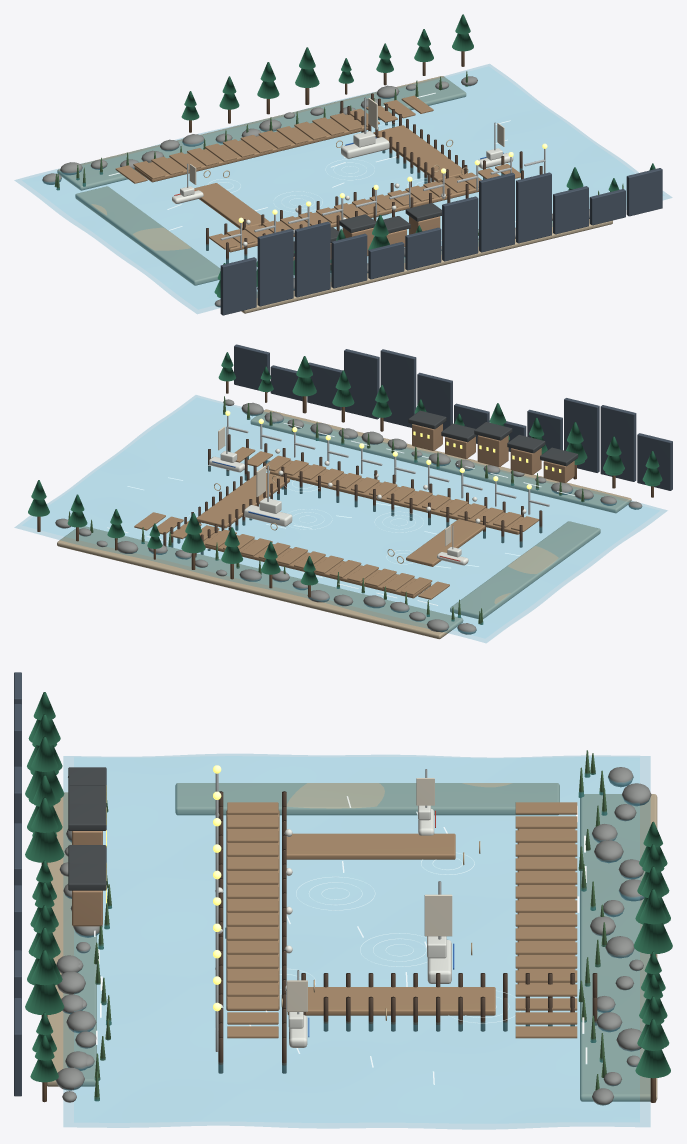
Rendered from water-cinematic-marina-blender.glb.
3 views of the same model, one above another, from view 1: azimuth 30°, elevation 25°; view 2: azimuth 150°, elevation 25°; view 3: azimuth 270°, elevation 25° (orthographic). The views are drawn at different scales.
Parts seen in each view (by area): view 1: A3D water procedural base tessellated marina surface, A3D water secondary crossing ripple reference layer, batched layered blue distant shore, batched wet cedar layered dock boards, batched mixed sand gravel shore shelf, batched deep green shore pines, batched wet granite shoreline boulders, batched tar stained pier understructure, batched ivory fiberglass hulls, batched dark metal boathouse roofs, batched galvanized marina hardware, batched weathered boathouse siding (+2 smaller); view 2: A3D water procedural base tessellated marina surface, A3D water secondary crossing ripple reference layer, batched mixed sand gravel shore shelf, batched layered blue distant shore, batched wet cedar layered dock boards, batched deep green shore pines, batched wet granite shoreline boulders, batched weathered boathouse siding, batched tar stained pier understructure, batched dark metal boathouse roofs, batched ivory fiberglass hulls, batched galvanized marina hardware (+3 smaller); view 3: A3D water procedural base tessellated marina surface, A3D water secondary crossing ripple reference layer, batched wet cedar layered dock boards, batched mixed sand gravel shore shelf, batched deep green shore pines, batched wet granite shoreline boulders, batched tar stained pier understructure, batched dark metal boathouse roofs, batched layered blue distant shore, batched coastal reed grass, batched ivory fiberglass hulls, batched sun faded canvas sails (+3 smaller).
Boxes of the visible parts, left/top/right/bottom form: A3D water procedural base tessellated marina surface: left=15, top=64, right=671, bottom=313; A3D water secondary crossing ripple reference layer: left=23, top=67, right=663, bottom=308; batched layered blue distant shore: left=220, top=168, right=662, bottom=315; batched wet cedar layered dock boards: left=115, top=95, right=520, bottom=252; batched mixed sand gravel shore shelf: left=57, top=76, right=612, bottom=313; batched deep green shore pines: left=181, top=14, right=655, bottom=297; batched wet granite shoreline boulders: left=42, top=76, right=589, bottom=307; batched tar stained pier understructure: left=206, top=93, right=542, bottom=263; batched ivory fiberglass hulls: left=172, top=131, right=513, bottom=246; batched dark metal boathouse roofs: left=293, top=203, right=441, bottom=256; batched galvanized marina hardware: left=187, top=97, right=545, bottom=248; batched weathered boathouse siding: left=293, top=216, right=440, bottom=264; A3D water procedural base tessellated marina surface: left=15, top=395, right=666, bottom=642; A3D water secondary crossing ripple reference layer: left=23, top=398, right=658, bottom=637; batched mixed sand gravel shore shelf: left=57, top=409, right=631, bottom=639; batched layered blue distant shore: left=234, top=344, right=672, bottom=490; batched wet cedar layered dock boards: left=134, top=447, right=539, bottom=599; batched deep green shore pines: left=28, top=352, right=662, bottom=585; batched wet granite shoreline boulders: left=55, top=399, right=642, bottom=634; batched weathered boathouse siding: left=412, top=424, right=574, bottom=482; batched tar stained pier understructure: left=163, top=434, right=542, bottom=557; batched dark metal boathouse roofs: left=408, top=410, right=578, bottom=466; batched ivory fiberglass hulls: left=209, top=448, right=526, bottom=565; batched galvanized marina hardware: left=226, top=416, right=549, bottom=549; A3D water procedural base tessellated marina surface: left=63, top=754, right=650, bottom=1129; A3D water secondary crossing ripple reference layer: left=74, top=756, right=639, bottom=1122; batched wet cedar layered dock boards: left=226, top=802, right=577, bottom=1038; batched mixed sand gravel shore shelf: left=47, top=783, right=657, bottom=1101; batched deep green shore pines: left=25, top=692, right=672, bottom=1082; batched wet granite shoreline boulders: left=55, top=767, right=651, bottom=1105; batched tar stained pier understructure: left=218, top=791, right=597, bottom=1073; batched dark metal boathouse roofs: left=68, top=767, right=106, bottom=890; batched layered blue distant shore: left=14, top=672, right=21, bottom=1096; batched coastal reed grass: left=94, top=750, right=607, bottom=1101; batched ivory fiberglass hulls: left=215, top=805, right=451, bottom=1047; batched sun faded canvas sails: left=287, top=778, right=452, bottom=1011.
Size of the model in its own units: 16.5 by 2.78 by 12.34.
